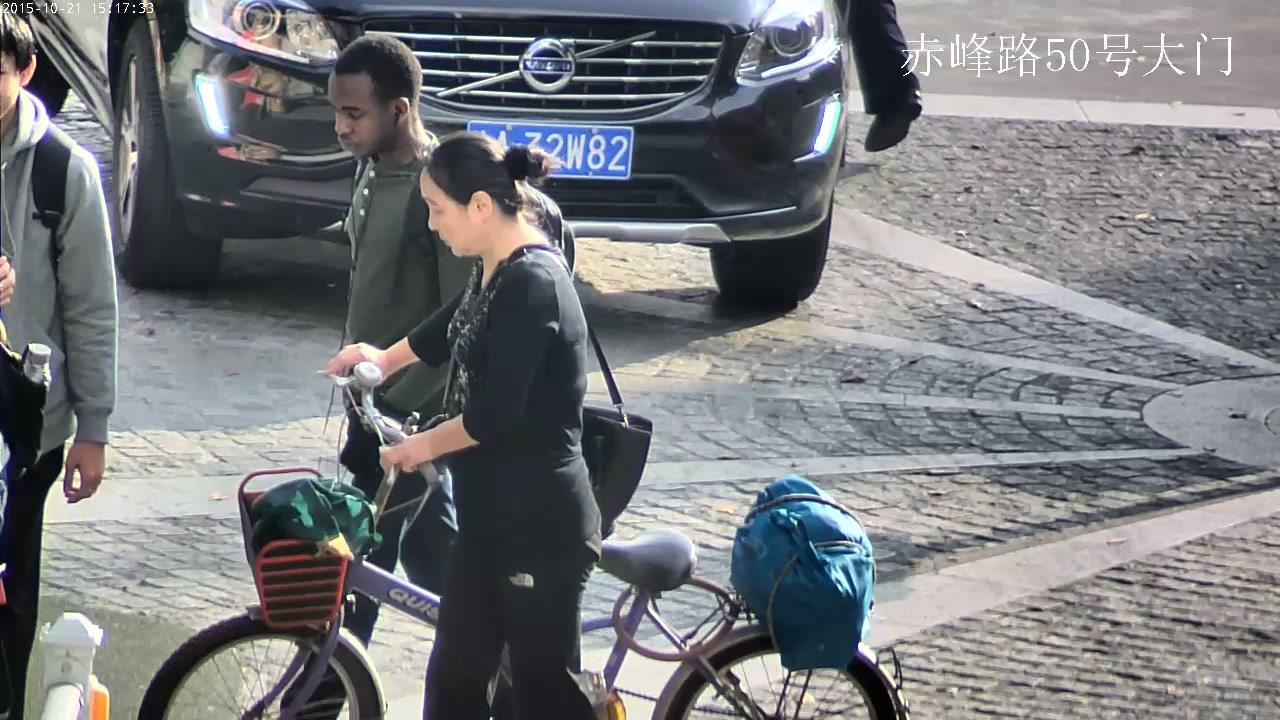face: (327, 71, 392, 156), (420, 168, 472, 256), (0, 51, 20, 117)
